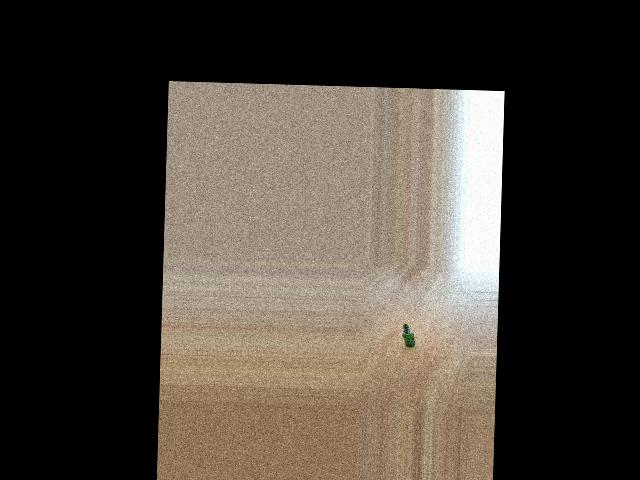beer: (402, 323, 416, 347)
